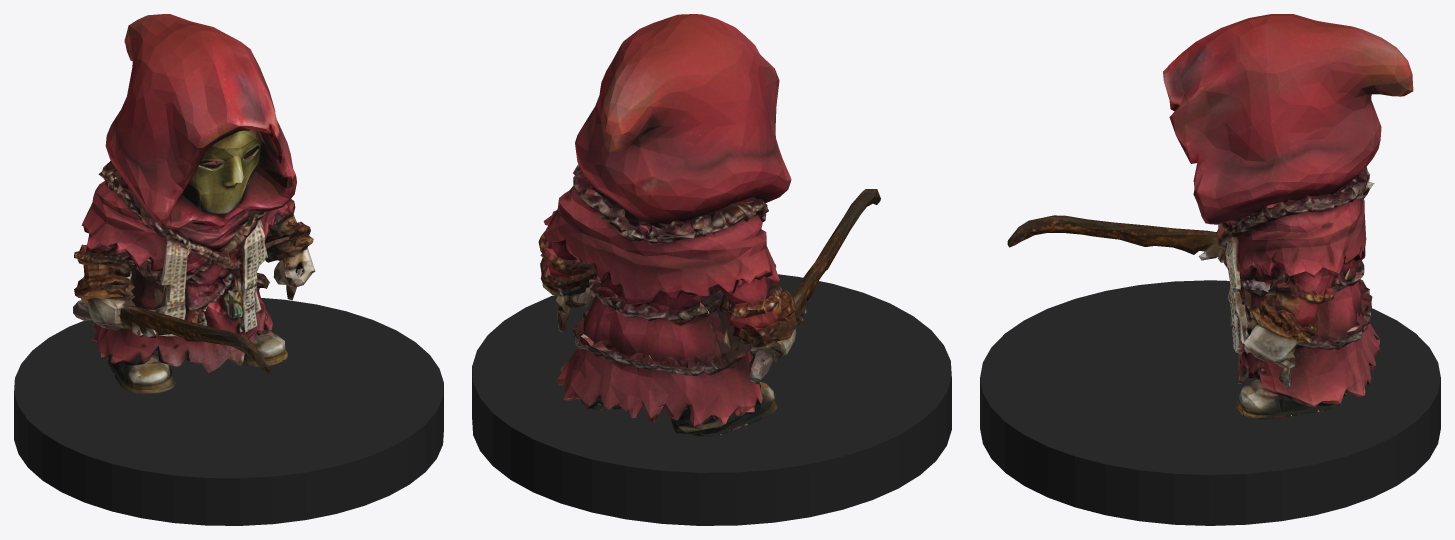
The model's file is dark-disciple.glb.
The picture shows the model from 3 angles, left to right: view 1: azimuth 30°, elevation 25°; view 2: azimuth 150°, elevation 25°; view 3: azimuth 270°, elevation 25°; orthographic projection. The views are drawn at different scales.
Parts seen in each view (by area): view 1: base, figure; view 2: figure, base; view 3: base, figure.
Part boxes in pixels (x1,y1,x2,y2): base: (14,298,443,525); figure: (73,14,315,393); figure: (538,14,880,436); base: (472,274,951,525); base: (980,280,1440,525); figure: (1007,14,1413,419).
Size of the model in its own units: 0.9843 by 0.97 by 0.9843.
2 materials, 1 textured.
